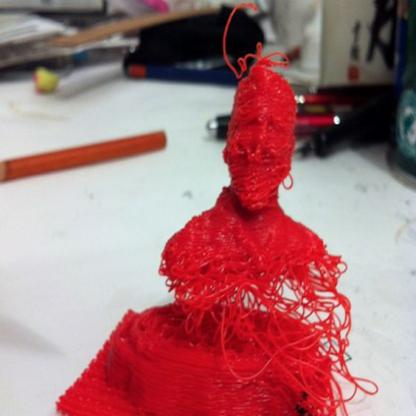fail: (157, 213, 381, 399)
